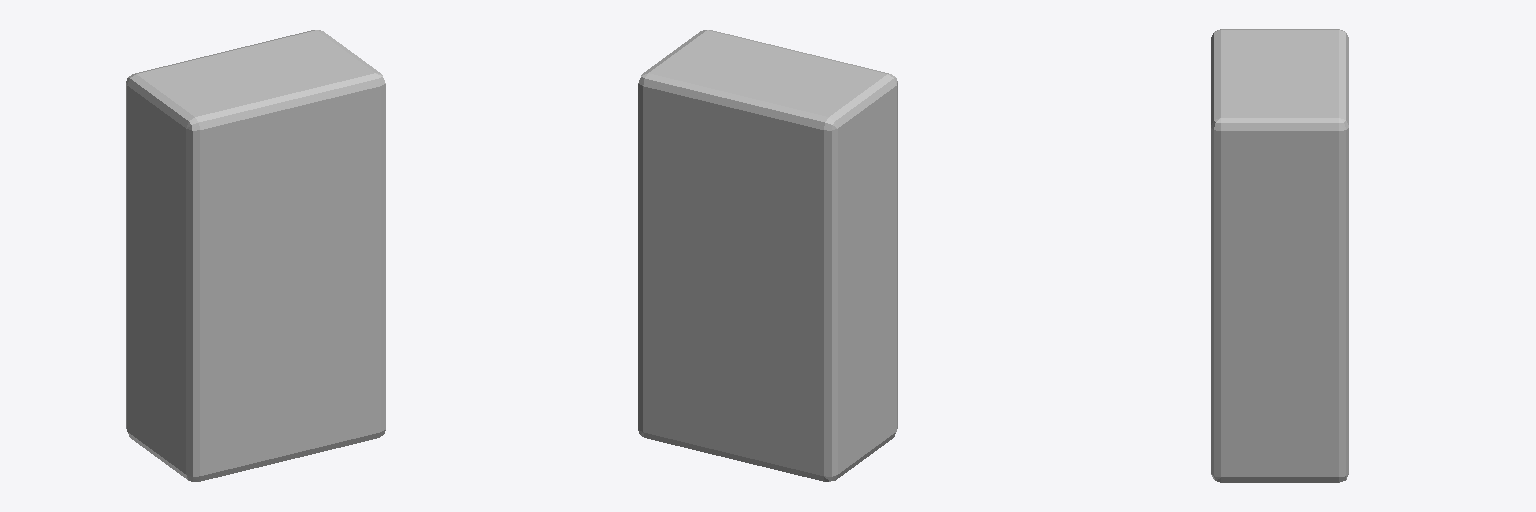
3 views of the same model, side by side, from view 1: azimuth 30°, elevation 25°; view 2: azimuth 150°, elevation 25°; view 3: azimuth 270°, elevation 25° (orthographic).
Visible parts, largest first — view 1: AmmoMultiple:0; view 2: AmmoMultiple:0; view 3: AmmoMultiple:0.
Part boxes in pixels (x1,y1,x2,y2): AmmoMultiple:0: (126, 30, 385, 481); AmmoMultiple:0: (638, 30, 897, 481); AmmoMultiple:0: (1211, 29, 1348, 482).
Size of the model in its own units: 6.78 by 11.91 by 4.09.